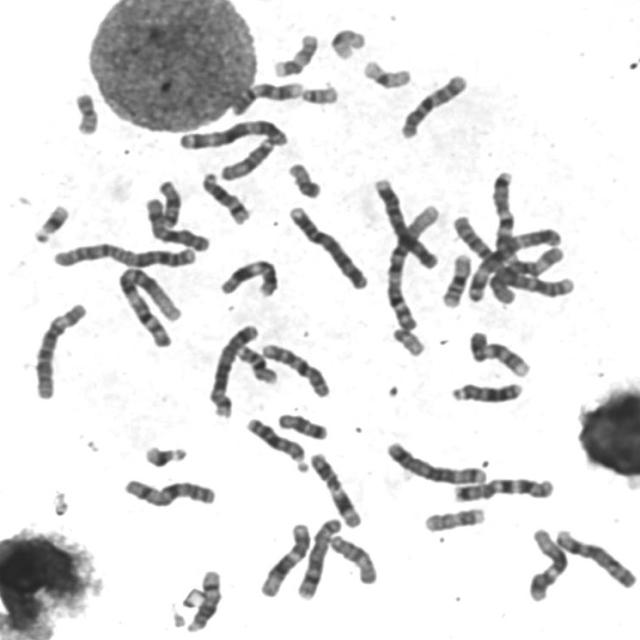A1: (380, 200, 442, 333), (117, 263, 184, 351)
A2: (449, 213, 575, 299), (48, 237, 199, 271)
A3: (462, 227, 564, 304), (174, 114, 292, 152)
B4: (284, 202, 371, 292), (368, 173, 441, 271)
B5: (205, 318, 261, 420), (382, 438, 490, 486)
C10: (396, 69, 470, 141), (258, 339, 333, 400)
C11: (306, 448, 364, 530), (216, 256, 280, 300)
C12: (256, 519, 314, 599), (524, 524, 570, 603)
C6: (29, 297, 90, 401), (487, 241, 568, 306)
C7: (488, 170, 527, 277), (448, 472, 558, 503)
C8: (552, 526, 639, 590), (292, 513, 344, 602)
C9: (464, 326, 532, 378), (228, 76, 306, 117)
D13: (242, 414, 311, 474), (447, 377, 525, 405)
D14: (197, 167, 253, 227), (183, 566, 224, 634)
D15: (324, 530, 380, 586), (216, 134, 276, 183)
E16: (436, 250, 474, 310), (232, 340, 280, 386)
E17: (270, 30, 321, 79), (420, 504, 487, 534)
E18: (274, 409, 330, 442), (153, 176, 183, 228)
F19: (358, 54, 414, 91), (326, 24, 368, 62)
F20: (283, 158, 324, 200), (70, 88, 102, 136)
G21: (28, 200, 72, 244), (140, 441, 189, 469)
G22: (388, 324, 428, 358), (297, 81, 341, 106)
X: (141, 194, 212, 253), (119, 474, 219, 510)
